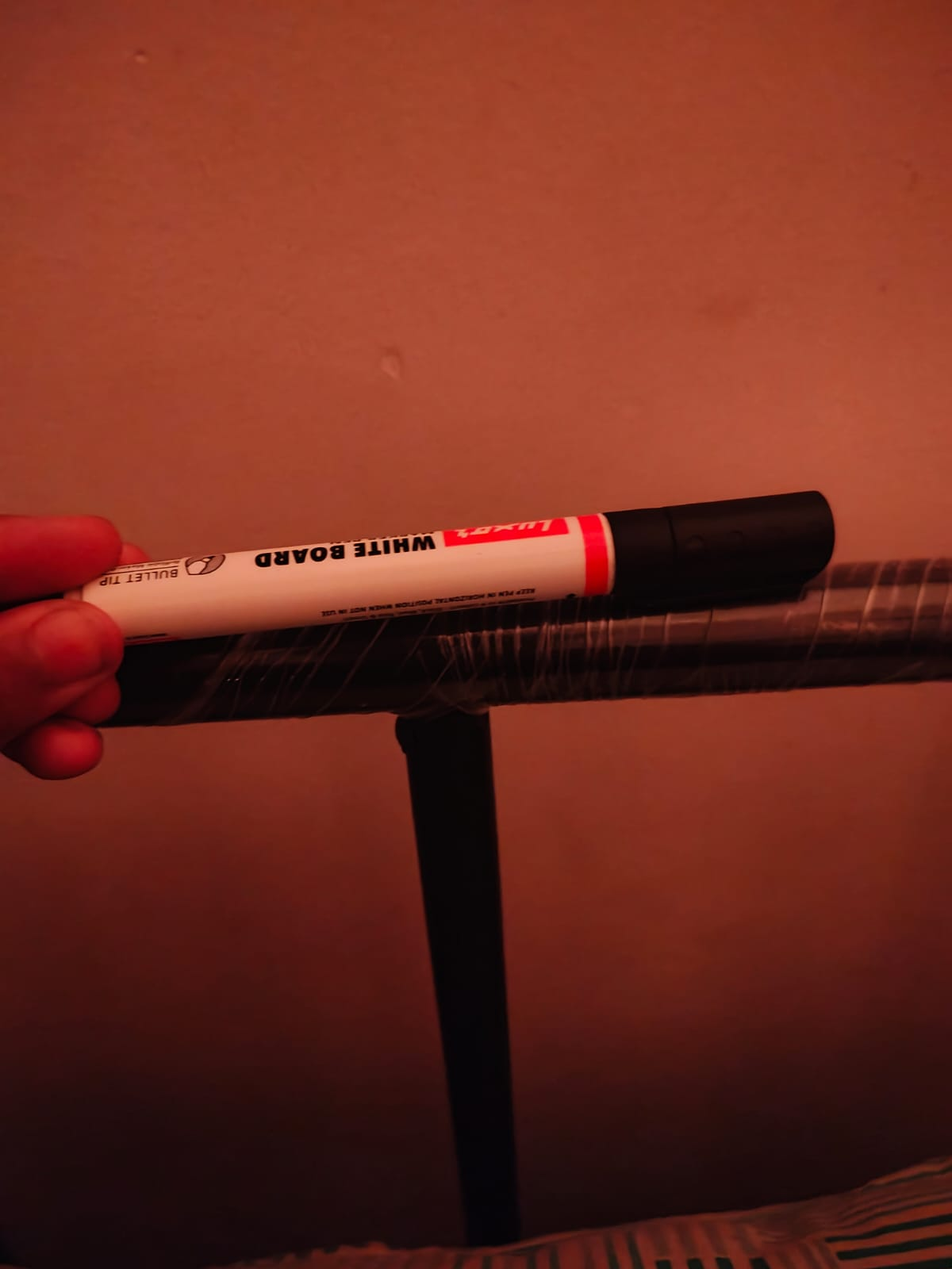case: (77, 479, 856, 634)
